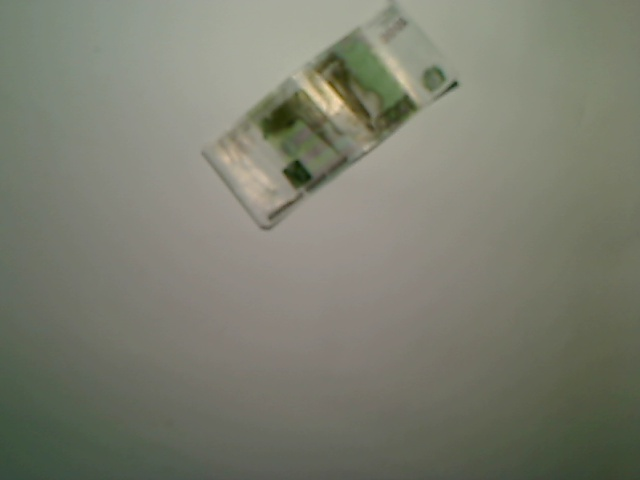banknotes: (195, 2, 465, 232)
